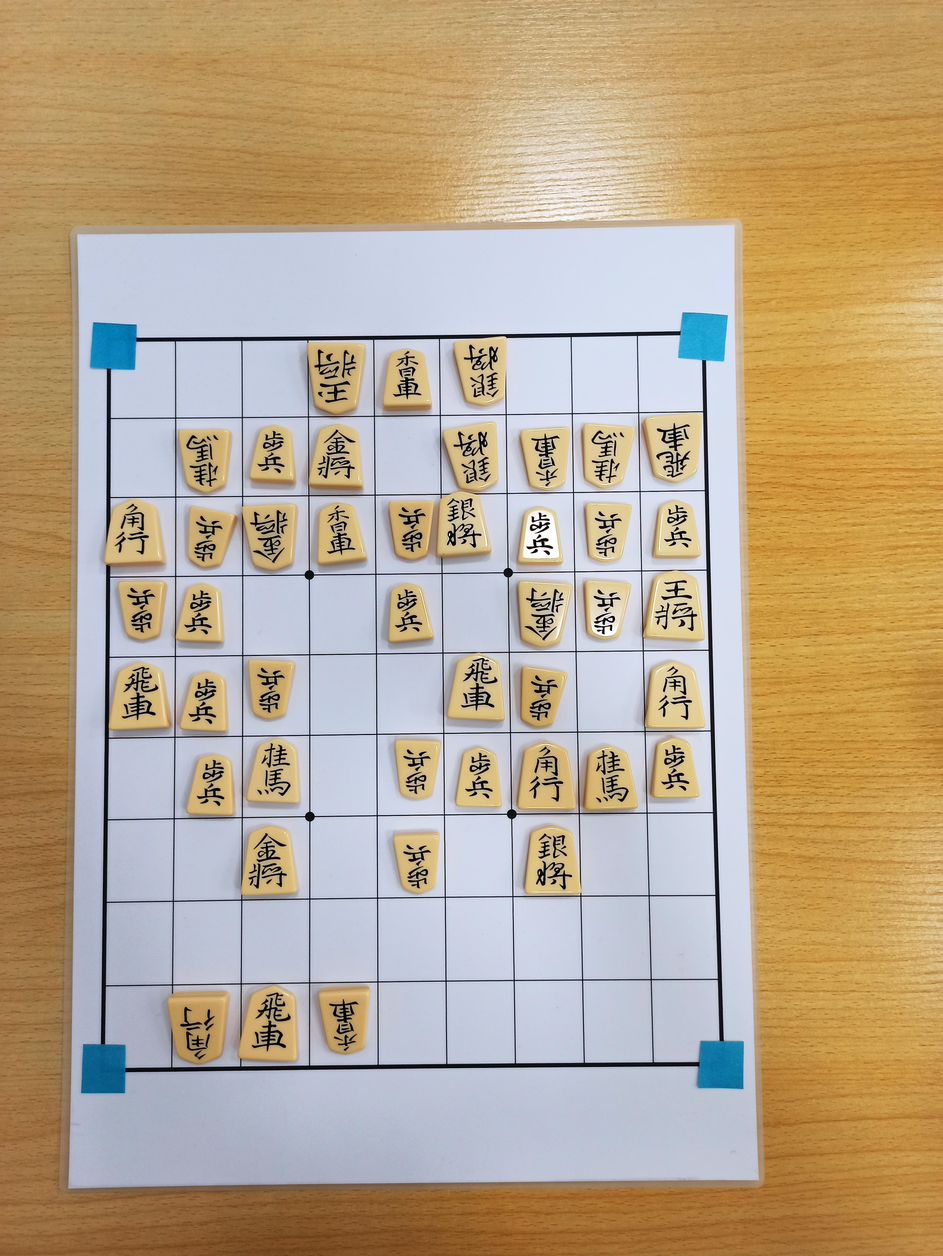board: (103, 333, 722, 1070)
